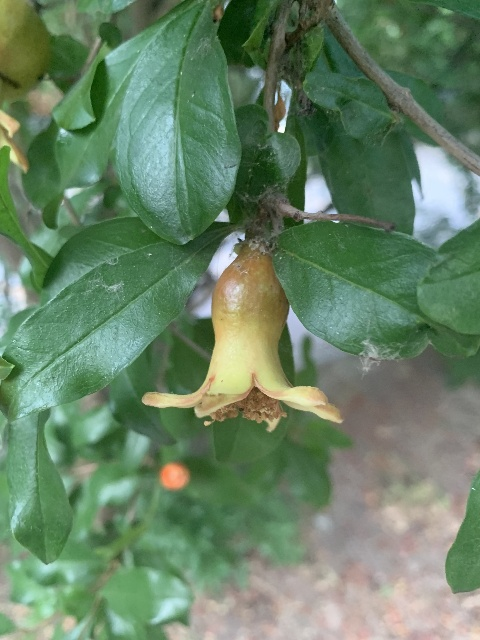early-fruit: (141, 248, 342, 433)
